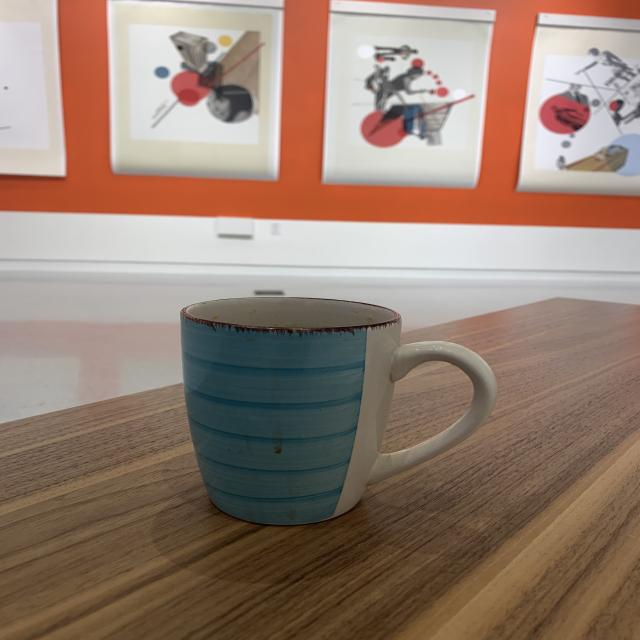Cup: (176, 293, 502, 528)
